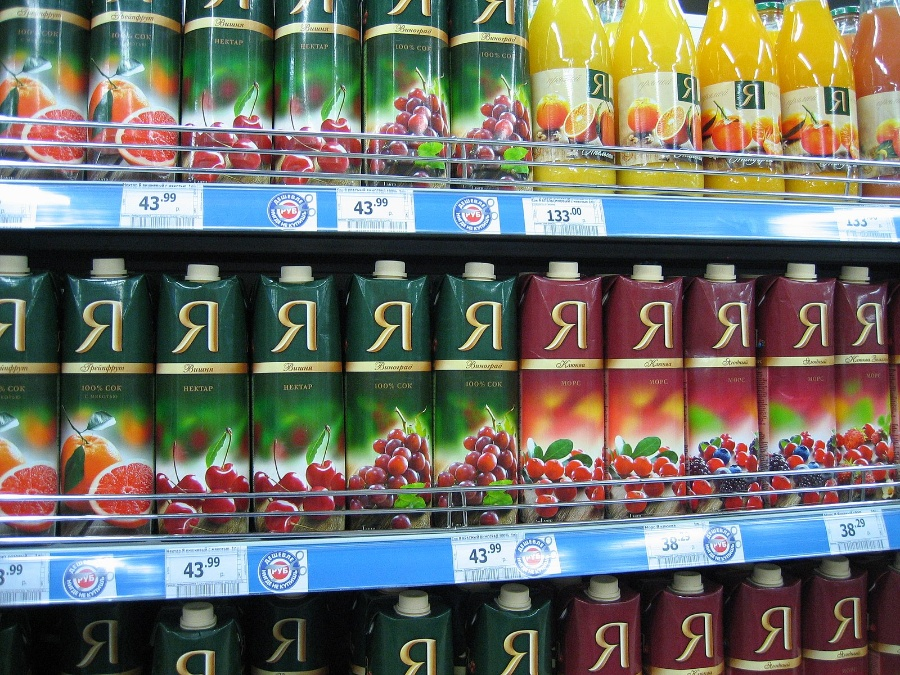juice: (147, 255, 262, 556), (243, 257, 360, 541), (50, 254, 163, 547), (338, 252, 442, 541), (429, 255, 529, 537), (513, 257, 610, 530), (602, 254, 690, 527), (756, 255, 843, 513), (683, 257, 765, 524), (826, 253, 900, 509)
